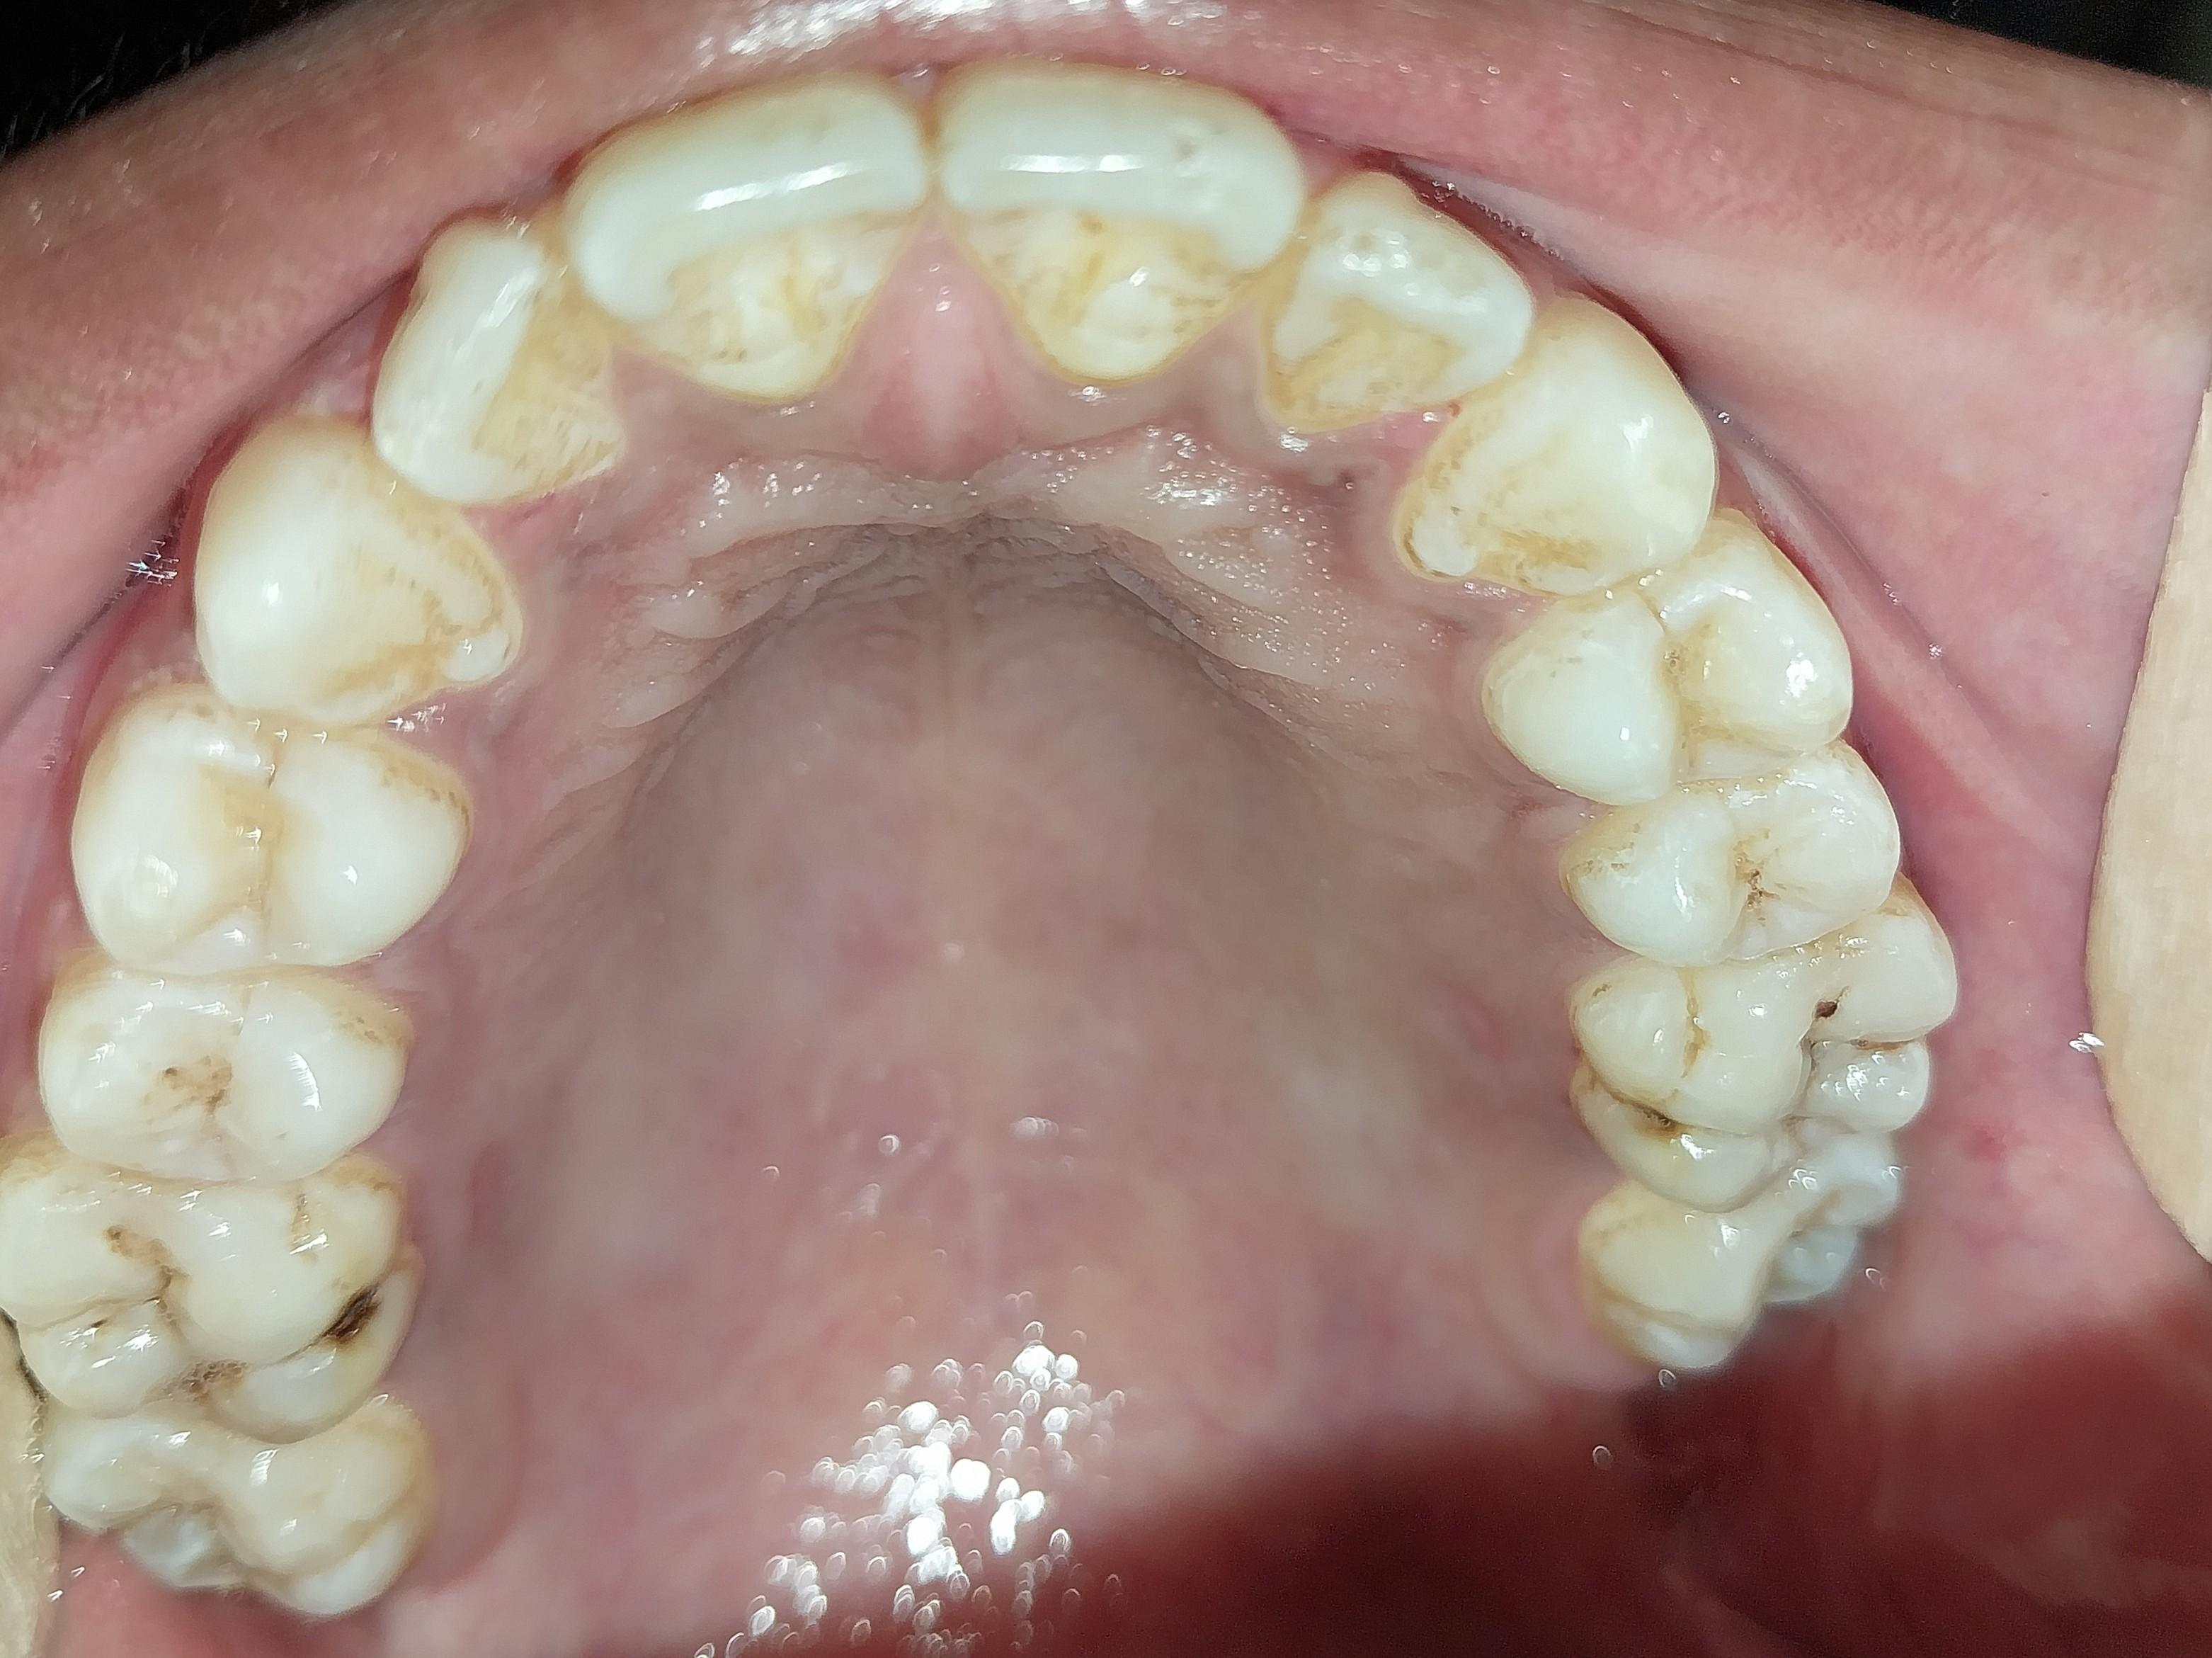D: (1570, 916, 1970, 1208), (0, 1169, 409, 1443)
